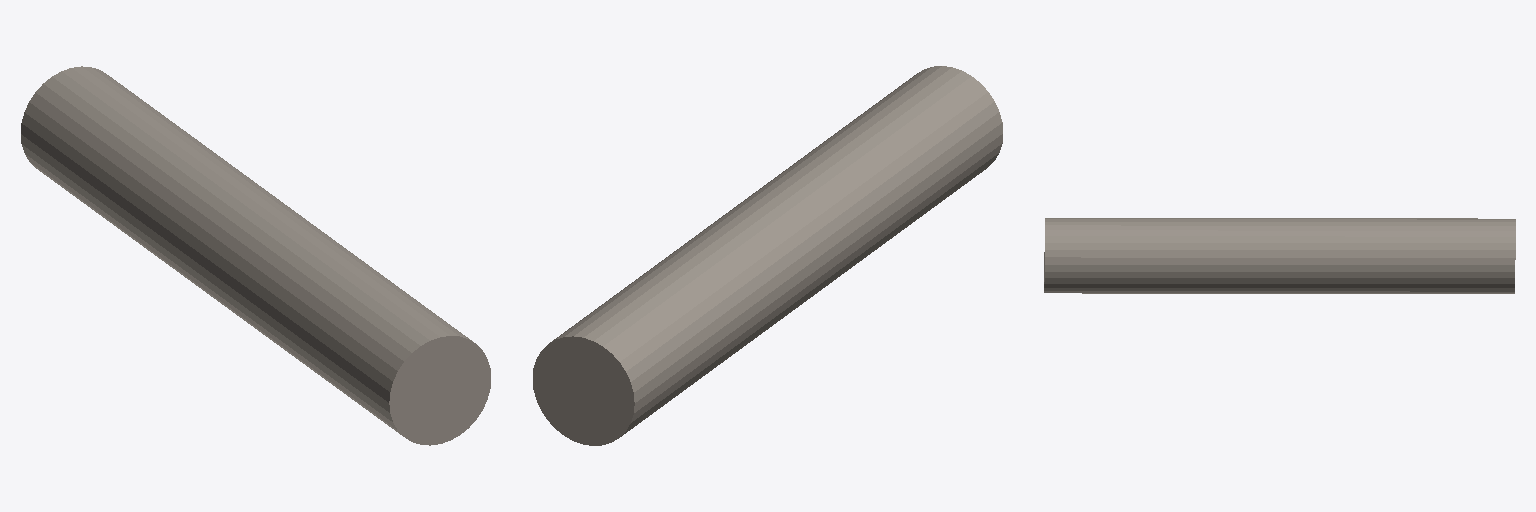
URDF robot description (cylinder):
<?xml version="1.0"?>
<robot
  name="cylinder">
  <link
    name="cylinder">
    <inertial>
      <origin
        xyz="0 0 0"
        rpy="1.57 0 0" />
      <mass
        value="0.3" />
      <inertia
        ixx="0.3"
        ixy="0.0001"
        ixz="-0.085"
        iyy="0.750"
        iyz="-0.000"
        izz="0.817" />
    </inertial>
    <visual>
      <origin
        xyz="0 0 0"
        rpy="1.57 0 0" />
      <geometry>
        <cylinder length="0.4" radius="0.032" />
      </geometry>
      <material
        name="">
        <color
          rgba="0.647058823529412 0.619607843137255 0.588235294117647 0.5" />
      </material>
    </visual>
    <collision>
      <origin
        xyz="0 0 0"
        rpy="1.57 0  0" />
      <geometry>
        <cylinder length="0.4" radius="0.032" />
      </geometry>
    </collision>
  </link>

  <gazebo reference="cylinder">
    <material>Gazebo/Chrome</material>
    <static>false</static>
    <turnGravityOff>false</turnGravityOff>
  </gazebo>
</robot>



--- Render facts (derived) ---
3 views of the same robot in one strip: view 1: azimuth 30°, elevation 25°; view 2: azimuth 150°, elevation 25°; view 3: azimuth 270°, elevation 25° (orthographic).
Robot: cylinder — 1 links, 0 joints (none); root link cylinder; default pose: every joint at zero.
Links seen in each view (by area): view 1: cylinder; view 2: cylinder; view 3: cylinder.
Link boxes in pixels (x1,y1,x2,y2): cylinder: (21, 66, 490, 445); cylinder: (533, 66, 1002, 445); cylinder: (1044, 218, 1515, 293).
Size in the robot's own frame: 0.064 by 0.4001 by 0.0643 metres.
Geometry: primitives only (box / cylinder / sphere), no mesh files.